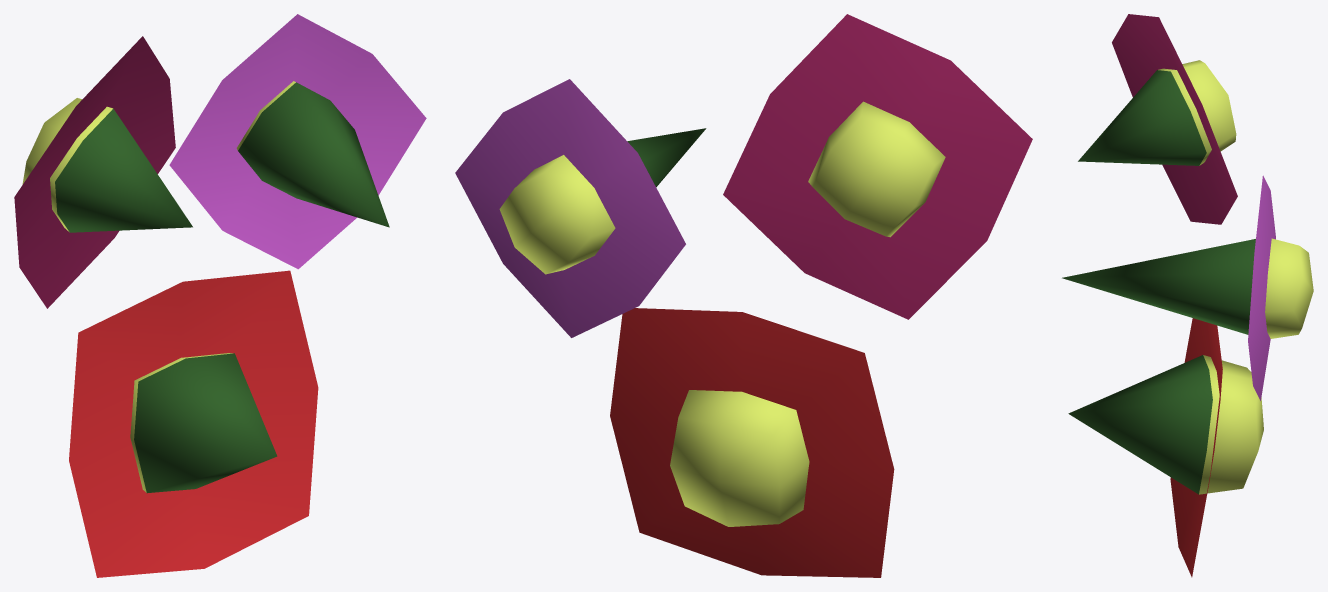
Rendered from Flower 01.FBX.
3 views of the same model, side by side, from view 1: azimuth 30°, elevation 25°; view 2: azimuth 150°, elevation 25°; view 3: azimuth 270°, elevation 25° (orthographic). The views are drawn at different scales.
Parts seen in each view (by area): view 1: Flowers 01; view 2: Flowers 01; view 3: Flowers 01.
Part boxes in pixels (left/top/right/bottom): Flowers 01: left=14, top=14, right=426, bottom=577; Flowers 01: left=455, top=14, right=1032, bottom=577; Flowers 01: left=1062, top=14, right=1313, bottom=577.
Size of the model in its own units: 44.95 by 49.11 by 22.56.
1 material, 1 textured.
